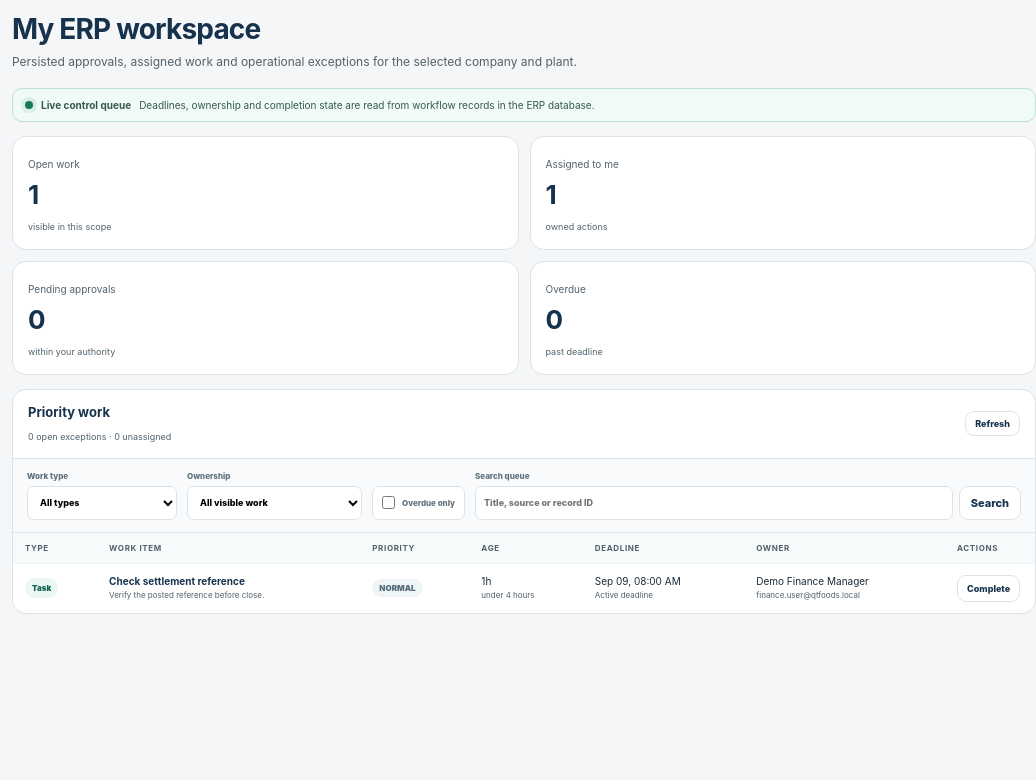
Scenario: WRK_HOME › completes owned task work through the versioned command
Click the button "Complete" at (989, 588), box [957,575,1020,602]
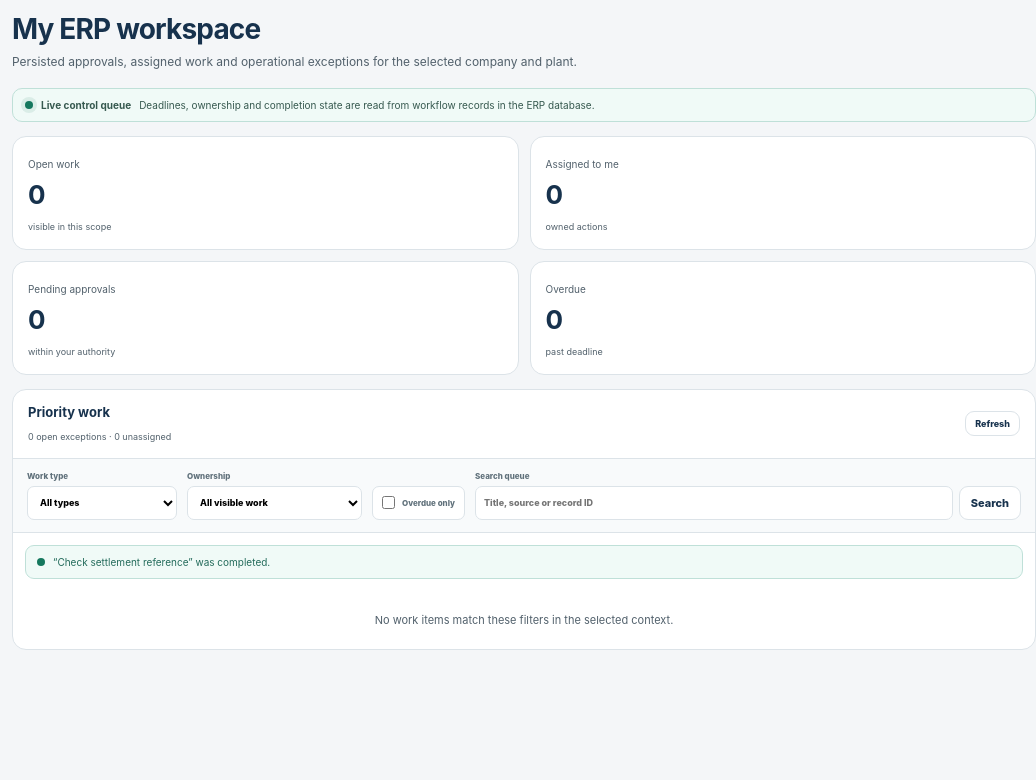
Result: the text "No work items match these filters in the selected context." is shown at [375,613,673,627]
Result: the message shows "was completed" at [53,556,270,568]
